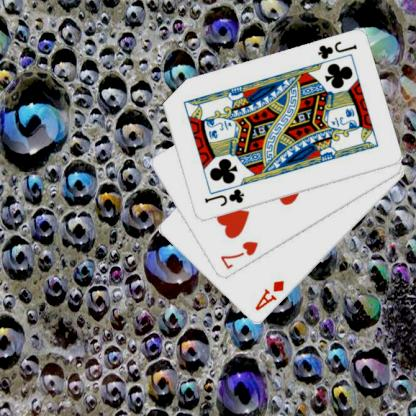7H: (218, 238, 260, 272)
AD: (252, 278, 286, 312)
JC: (314, 38, 358, 62), (201, 186, 245, 209)
